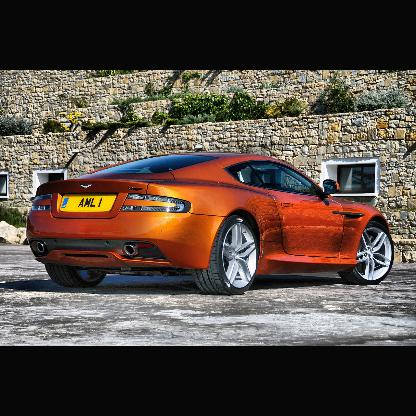Aston Martin Virage Coupe 2012: (26, 149, 396, 295)
